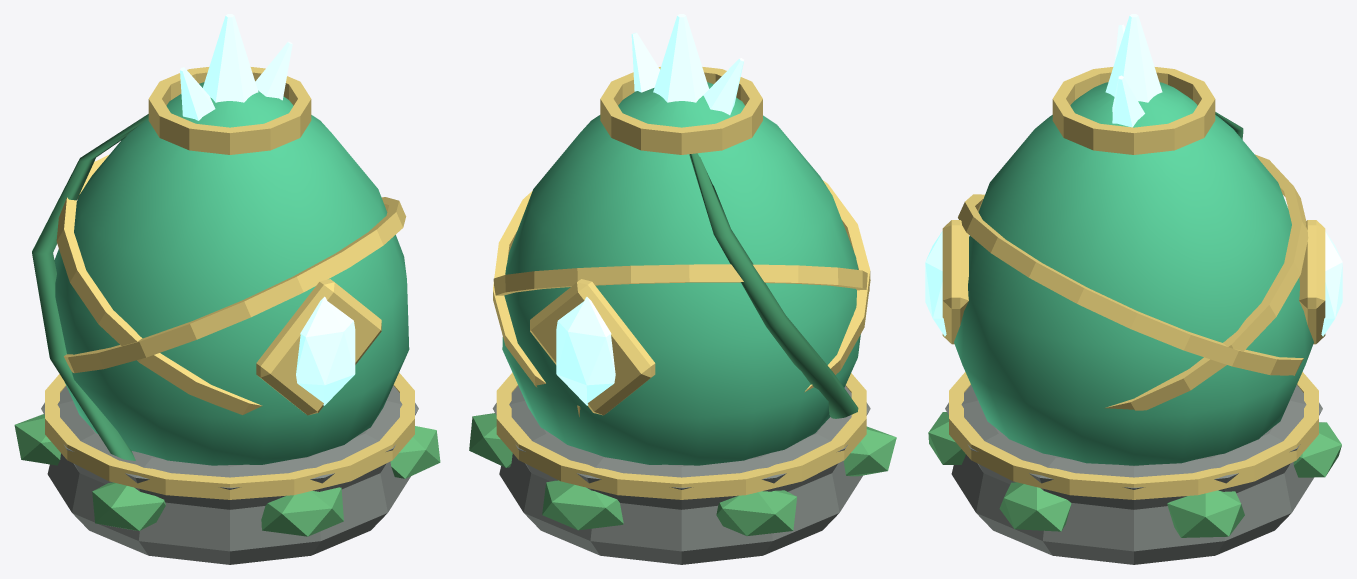
File: BossEgg_Meadow.fbx
The picture shows the model from 3 angles, left to right: view 1: azimuth 30°, elevation 25°; view 2: azimuth 150°, elevation 25°; view 3: azimuth 270°, elevation 25°; orthographic projection.
Visible parts, largest first — view 1: BossEgg_Meadow; view 2: BossEgg_Meadow; view 3: BossEgg_Meadow.
Part boxes in pixels (x1,y1,x2,y2): BossEgg_Meadow: (14,14,440,564); BossEgg_Meadow: (469,14,896,564); BossEgg_Meadow: (925,14,1342,564).
Bounding box in the file's own units: 3.61 × 4.83 × 3.8.
